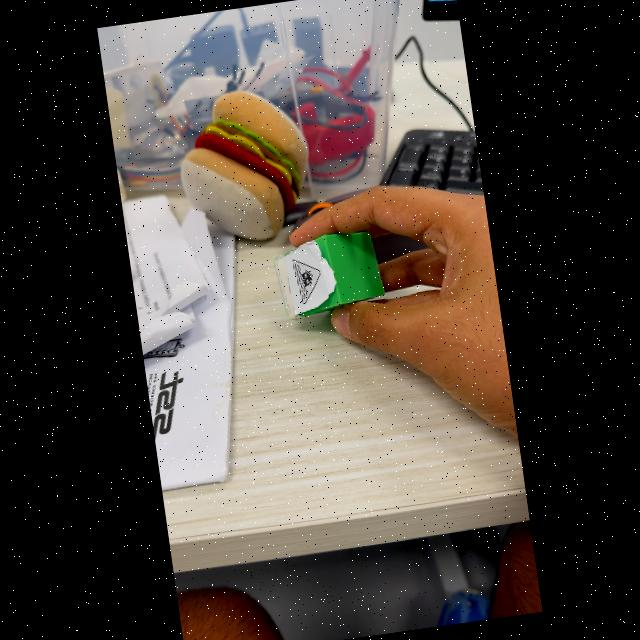Tsunami: (292, 259, 321, 304)
